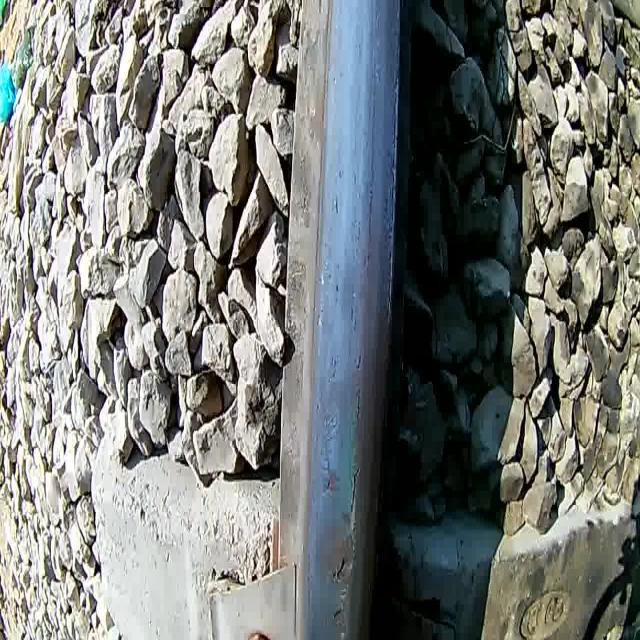Cracks: (346, 451, 363, 530)
Spallings: (327, 547, 351, 595)
Squats: (309, 450, 365, 638)
